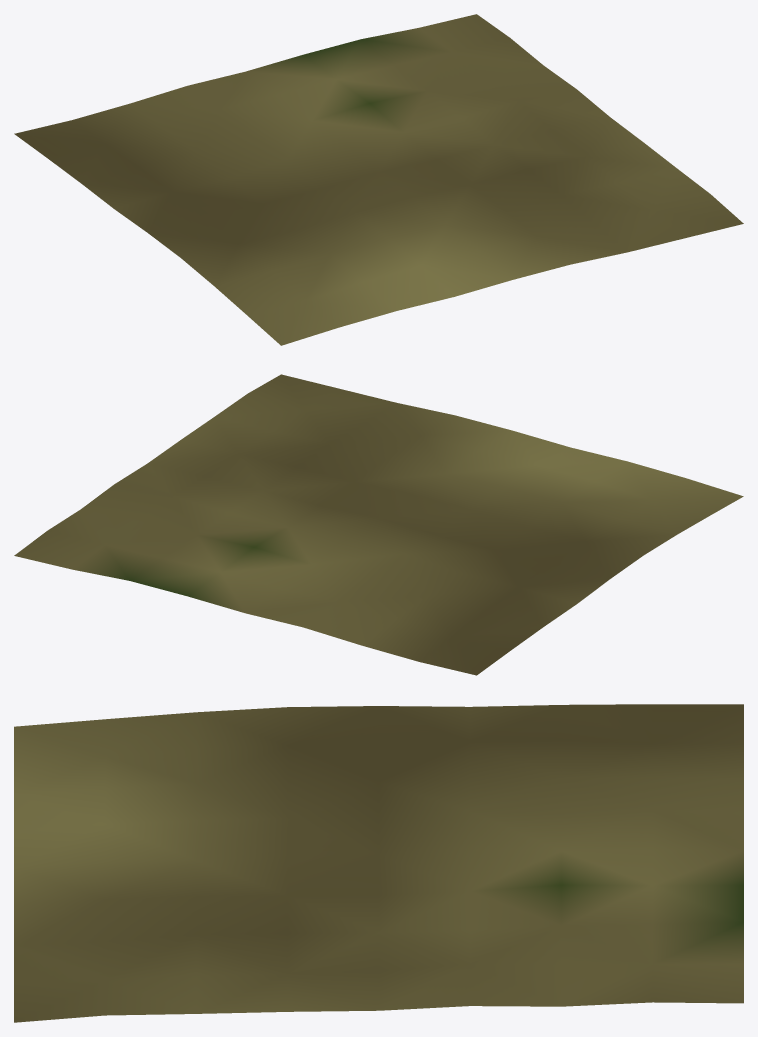
File: terrain_lod2_0_3.obj
3 renders of one model, top to bottom at view 1: azimuth 30°, elevation 25°; view 2: azimuth 150°, elevation 25°; view 3: azimuth 270°, elevation 25°, orthographic. The views are drawn at different scales.
Parts seen in each view (by area): view 1: terrain_lod2_0_3; view 2: terrain_lod2_0_3; view 3: terrain_lod2_0_3.
Part boxes in pixels (x1,y1,x2,y2): terrain_lod2_0_3: (14,14,743,345); terrain_lod2_0_3: (14,374,743,675); terrain_lod2_0_3: (14,704,743,1022).
Bounding box in the file's own units: 128 × 6.97 × 128.
